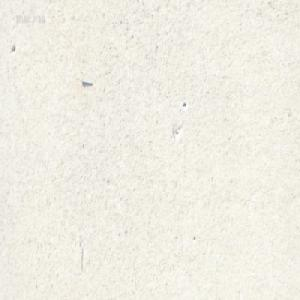Nail: (80, 77, 93, 85)
